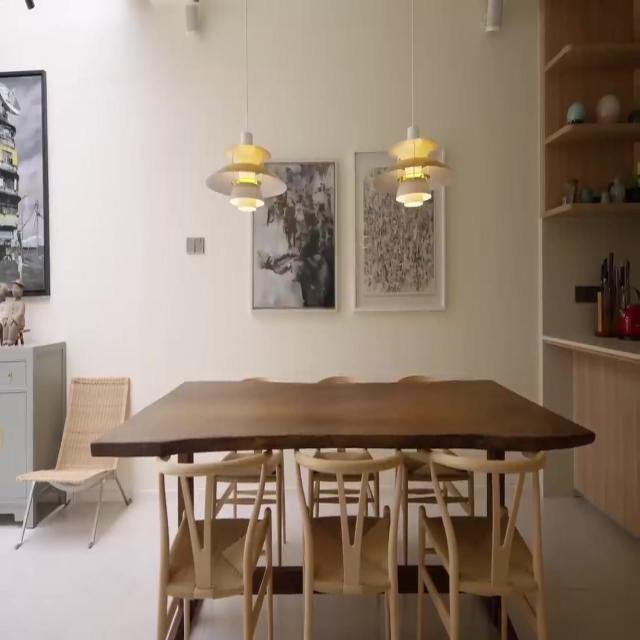obstacle: (90, 375, 596, 638), (538, 1, 640, 539), (416, 449, 548, 639), (156, 452, 274, 640), (294, 448, 404, 639), (15, 375, 132, 549), (0, 340, 66, 527)
